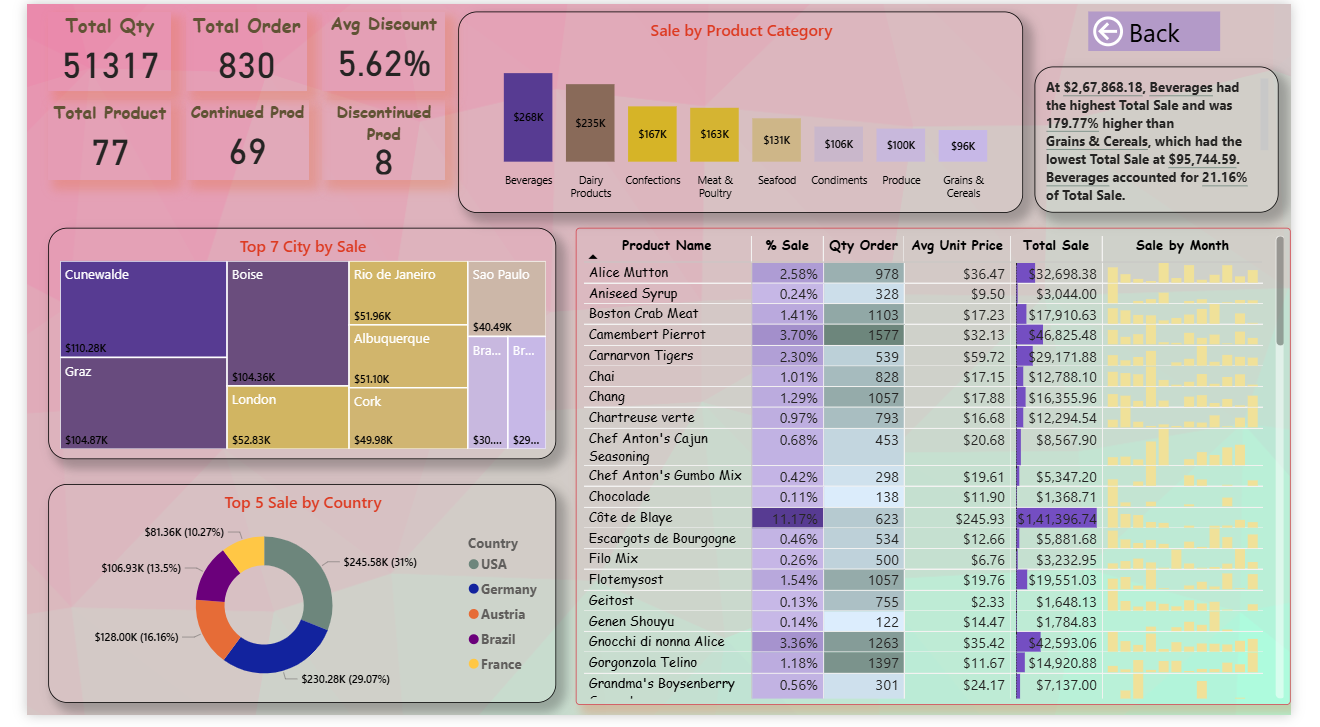

This screenshot's page, from the dashboard's own definition file:
{"tool":"powerbi","page":{"name":"Product Insight","canvas":[1280,720],"ordinal":2},"visuals":[{"type":"pivotTable","fields":{"Rows":["products.productName"],"Values":["All Measures.% Order Sale","All Measures.Total Quantity Order","All Measures.Avg Unit Price","All Measures.Total Sale","SparklineData(All Measures.Total Sale_[orders.Month Name])"]},"box":[555.7,227.1,724.3,482.9],"z":0},{"type":"card","title":"Total Order","fields":{"Values":["All Measures.Total Order"]},"box":[161,7.2,123.6,80.5],"z":1000},{"type":"pieChart","title":"Top 5 Sale by Country","fields":{"Y":["All Measures.Total Sale"],"Category":["customers.country"]},"box":[21.4,485.7,514.3,221.4],"z":2000},{"type":"columnChart","title":"Sale by Product Category","fields":{"Category":["categories.categoryName"],"Y":["All Measures.Total Sale"]},"box":[436.9,7.2,572,204.1],"z":3000},{"type":"card","title":"Continued Prod","fields":{"Values":["All Measures.Continued Product"]},"box":[161,97.7,125,80.5],"z":4000},{"type":"card","title":"Total Qty","fields":{"Values":["All Measures.Total Quantity Order"]},"box":[21.6,7.2,125,80.5],"z":5000},{"type":"treemap","title":"Top 7 City by Sale","fields":{"Group":["customers.city"],"Values":["All Measures.Total Sale"]},"box":[21.4,227.1,514.3,234.3],"z":6000},{"type":"actionButton","box":[1075,7.2,133.7,40.2],"z":7000},{"type":"textbox","box":[1020.4,63.2,247.2,148],"z":8000},{"type":"card","title":"Discontinued Prod","fields":{"Values":["All Measures.Discontinued Product"]},"box":[298.9,97.7,125,80.5],"z":9000},{"type":"card","title":"Avg Discount","fields":{"Values":["All Measures.Avg Discount"]},"box":[298.9,7.2,125,80.5],"z":10000},{"type":"card","title":"Total Product","fields":{"Values":["All Measures.Total Product"]},"box":[21.6,97.7,125,80.5],"z":11000}]}

Visuals, with their boxes in screenshot pixels (x1, y1, x2, y2), scaled from the page's 1280x720 canvas onto the 1320x727 screenshot:
pivotTable - products.productName x All Measures.% Order Sale: box(573, 229, 1319, 717)
"Total Order" card: box(166, 7, 293, 89)
"Top 5 Sale by Country" pieChart: box(22, 490, 552, 714)
"Sale by Product Category" columnChart: box(451, 7, 1040, 213)
"Continued Prod" card: box(166, 99, 295, 180)
"Total Qty" card: box(22, 7, 151, 89)
"Top 7 City by Sale" treemap: box(22, 229, 552, 466)
actionButton: box(1109, 7, 1246, 48)
textbox: box(1052, 64, 1307, 213)
"Discontinued Prod" card: box(308, 99, 437, 180)
"Avg Discount" card: box(308, 7, 437, 89)
"Total Product" card: box(22, 99, 151, 180)
